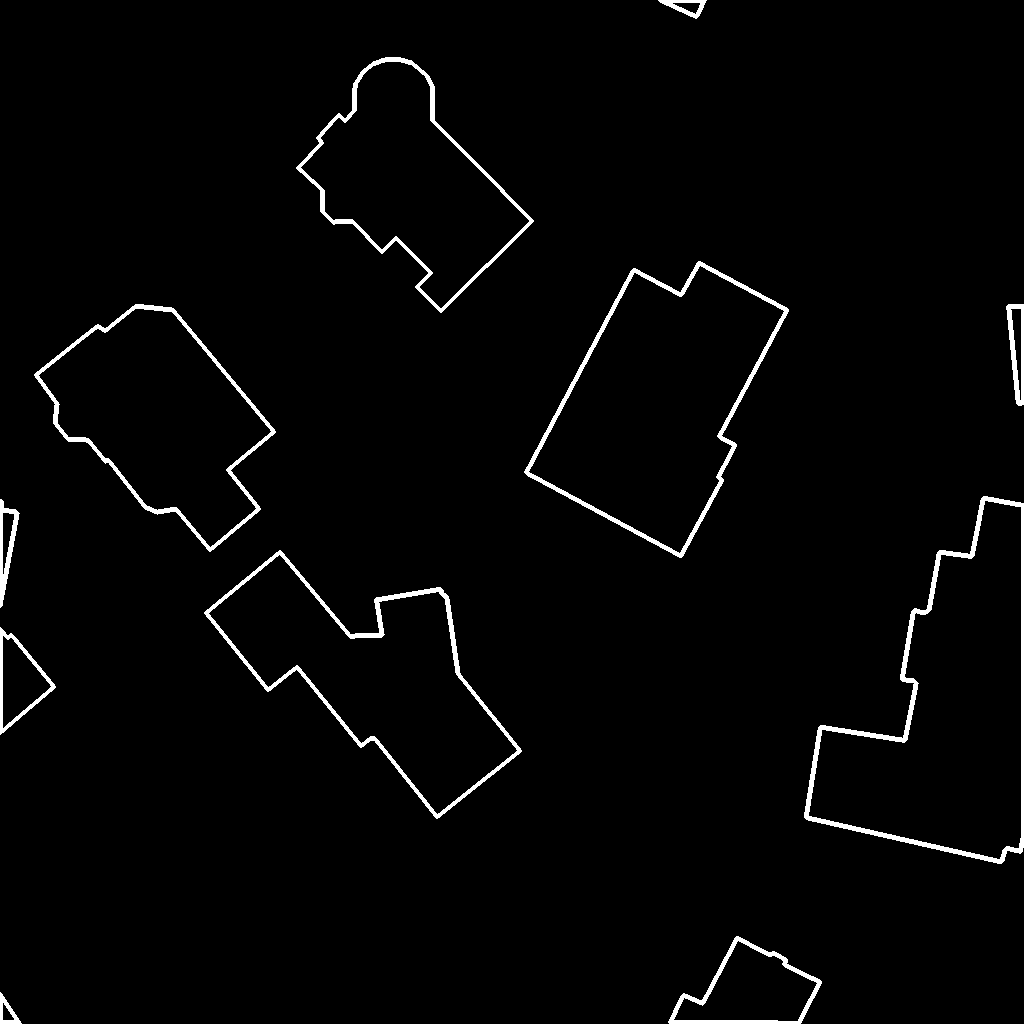building: (206, 552, 521, 818), (806, 498, 1024, 863), (526, 263, 788, 557), (298, 59, 533, 312), (36, 306, 275, 551), (670, 938, 821, 1024), (0, 629, 55, 734), (0, 501, 18, 609), (1008, 306, 1024, 405), (659, 0, 706, 18), (0, 994, 21, 1024)
